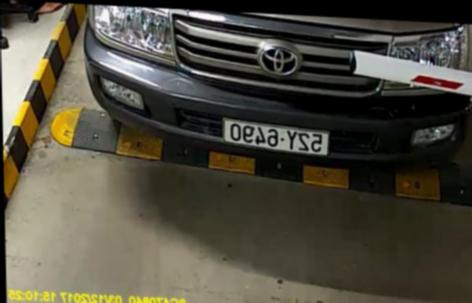License_Plate: (218, 117, 334, 158)
